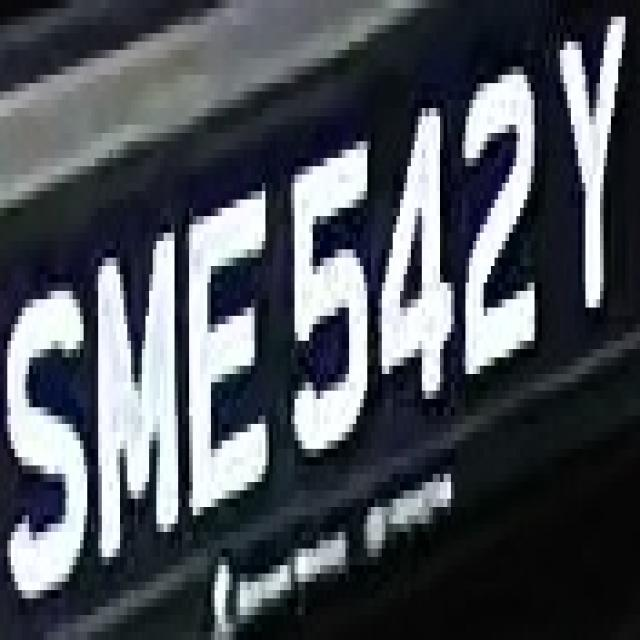2: (447, 58, 549, 391)
4: (371, 108, 458, 466)
5: (287, 141, 375, 482)
E: (182, 191, 269, 532)
M: (88, 216, 186, 599)
S: (14, 258, 91, 615)
Y: (549, 9, 636, 308)
